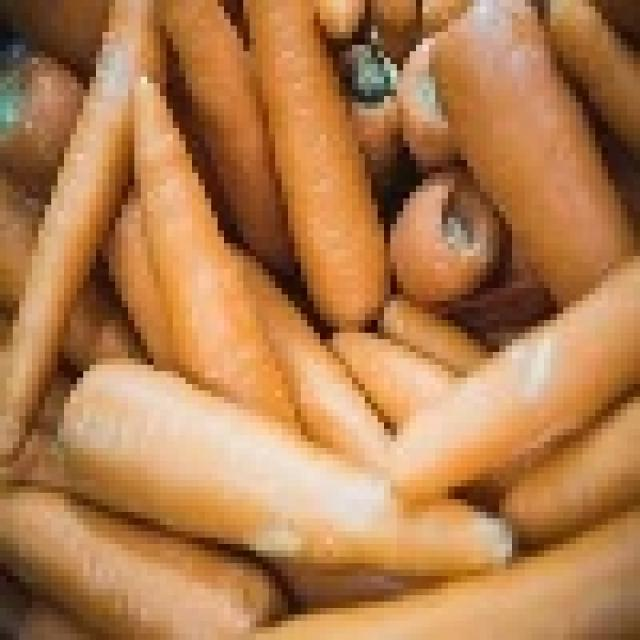Stale_Carrot: (307, 9, 494, 149), (204, 454, 379, 595), (378, 138, 540, 280), (438, 329, 604, 446)
